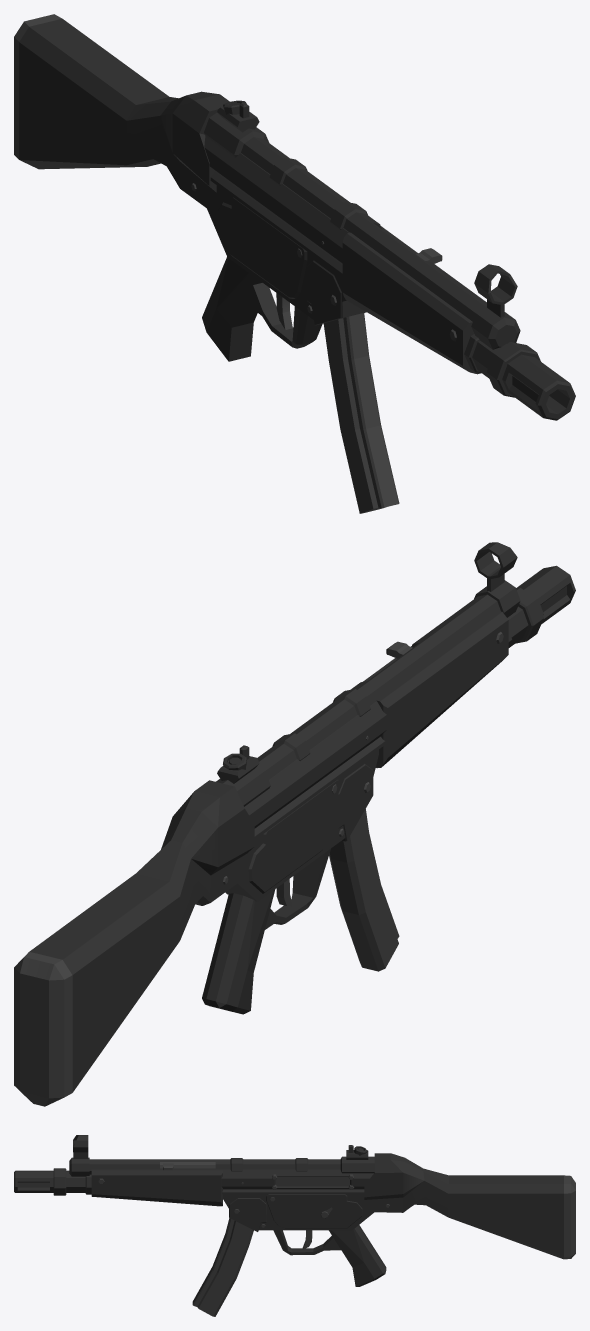
3 views of the same model, one above another, from view 1: azimuth 30°, elevation 25°; view 2: azimuth 150°, elevation 25°; view 3: azimuth 270°, elevation 25° (orthographic). The views are drawn at different scales.
Parts seen in each view (by area): view 1: Cube; view 2: Cube; view 3: Cube.
Boxes of the visible parts, x1,y1,x2,y2 form: Cube: (14,14,575,513); Cube: (14,542,575,1106); Cube: (14,1135,575,1316).
Size of the model in its own units: 4.14 by 24.75 by 70.31.
